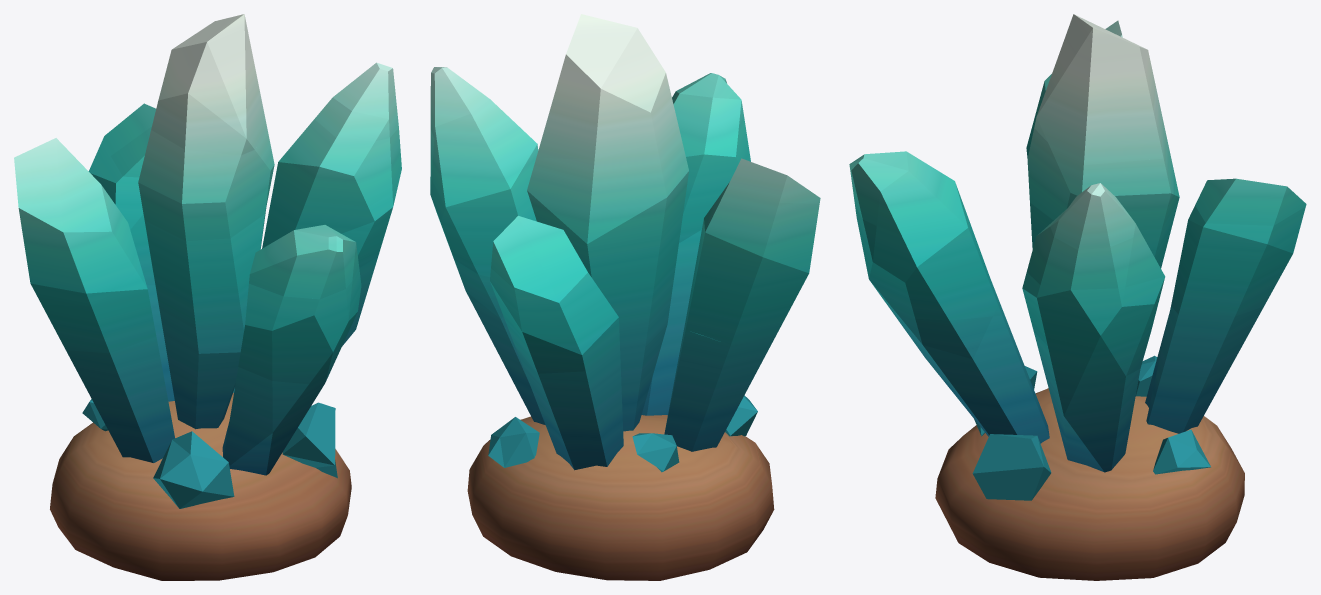
Rendered from Crystals_W.fbx.
3 views of the same model, side by side, from view 1: azimuth 30°, elevation 25°; view 2: azimuth 150°, elevation 25°; view 3: azimuth 270°, elevation 25° (orthographic). The views are drawn at different scales.
Visible parts, largest first — view 1: Crystal4, Crystal, Crystal3, Crystal2, Crystal5; view 2: Crystal4, Crystal, Crystal3, Crystal2, Crystal5; view 3: Crystal, Crystal3, Crystal2, Crystal4, Crystal5.
Part boxes in pixels (left/top/right/bottom): Crystal4: left=19, top=103, right=401, bottom=305; Crystal: left=50, top=388, right=351, bottom=580; Crystal3: left=42, top=141, right=401, bottom=384; Crystal2: left=66, top=257, right=377, bottom=475; Crystal5: left=14, top=14, right=398, bottom=213; Crystal4: left=430, top=73, right=819, bottom=296; Crystal: left=467, top=395, right=774, bottom=580; Crystal3: left=430, top=146, right=797, bottom=373; Crystal2: left=453, top=257, right=773, bottom=470; Crystal5: left=430, top=14, right=820, bottom=203; Crystal: left=935, top=355, right=1244, bottom=580; Crystal3: left=855, top=199, right=1305, bottom=353; Crystal2: left=892, top=306, right=1263, bottom=472; Crystal4: left=849, top=74, right=1306, bottom=289; Crystal5: left=1034, top=14, right=1163, bottom=250.
Bounding box in the file's own units: 79.37 × 80.12 × 99.41.
